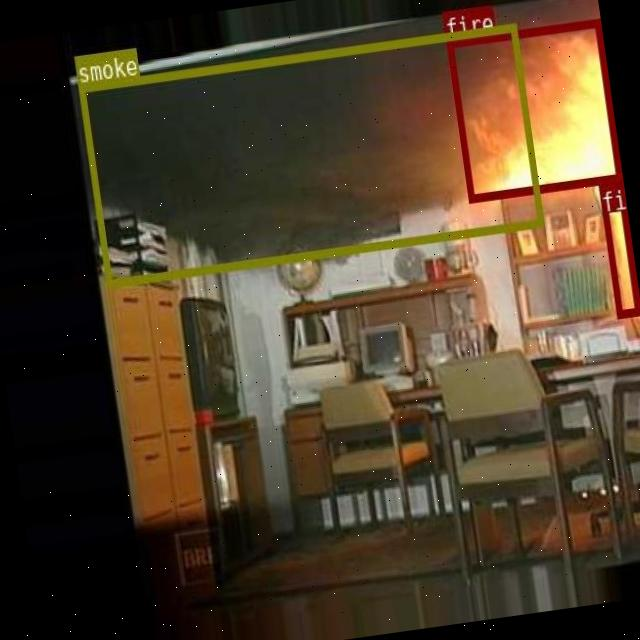fire: (446, 18, 620, 200), (598, 182, 639, 316)
smoke: (78, 23, 542, 286)
